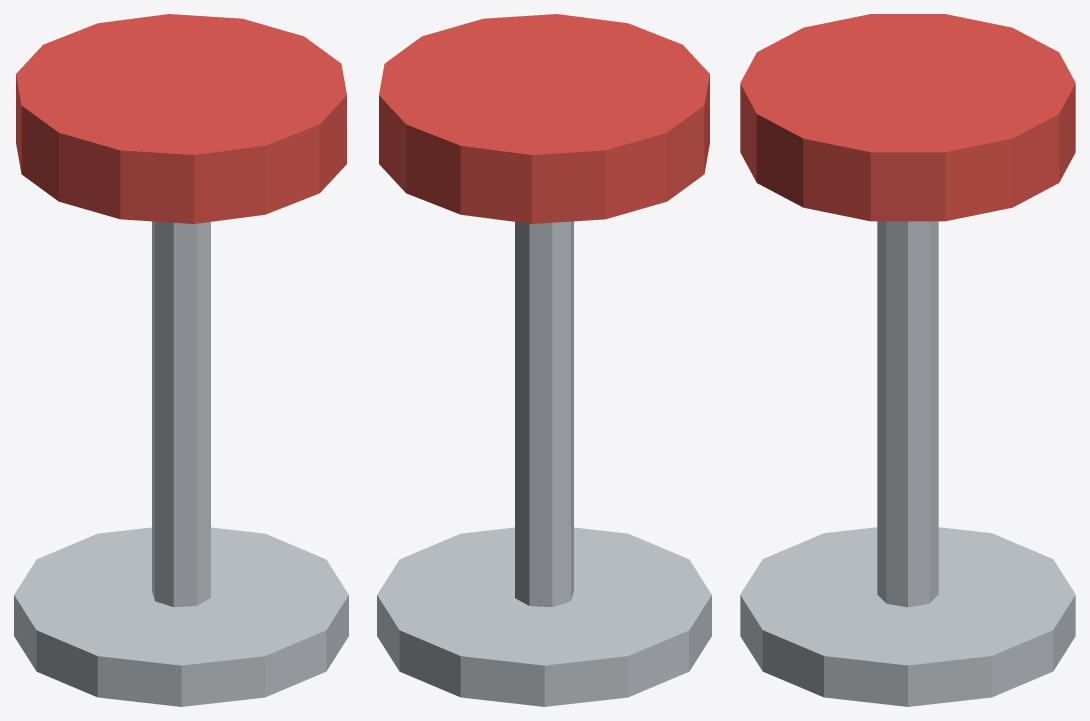
Rendered from diner_stool.glb.
3 renders of one model, left to right at view 1: azimuth 30°, elevation 25°; view 2: azimuth 150°, elevation 25°; view 3: azimuth 270°, elevation 25°, orthographic.
Visible parts, largest first — view 1: diner_stool; view 2: diner_stool; view 3: diner_stool.
Boxes of the visible parts, left/top/right/bottom form: diner_stool: left=14, top=14, right=348, bottom=706; diner_stool: left=377, top=14, right=711, bottom=706; diner_stool: left=740, top=14, right=1075, bottom=706.
Bounding box in the file's own units: 0.44 × 0.8 × 0.44.
